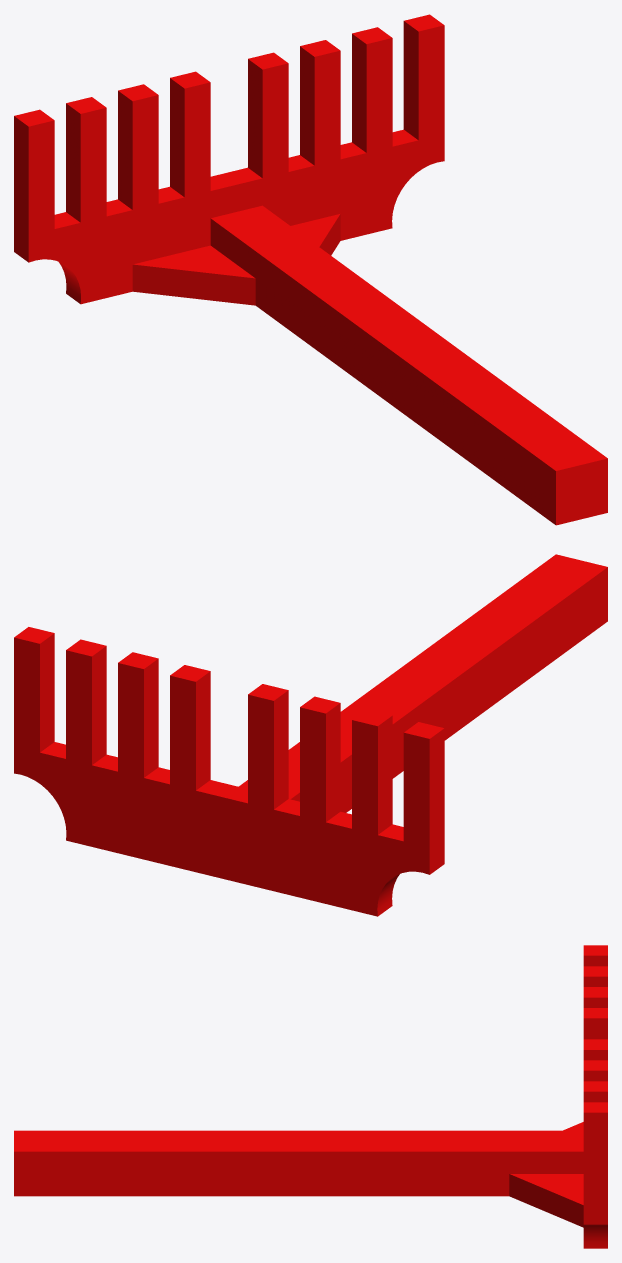
Rendered from rakeSpikes.obj.
3 views of the same model, one above another, from view 1: azimuth 30°, elevation 25°; view 2: azimuth 150°, elevation 25°; view 3: azimuth 270°, elevation 25° (orthographic). The views are drawn at different scales.
Parts seen in each view (by area): view 1: Mesh1 Model; view 2: Mesh1 Model; view 3: Mesh1 Model.
Part boxes in pixels (x1,y1,x2,y2): Mesh1 Model: (14,14,607,525); Mesh1 Model: (14,554,607,916); Mesh1 Model: (14,945,607,1248).
Size of the model in its own units: 0.16 by 0.07 by 0.24.
